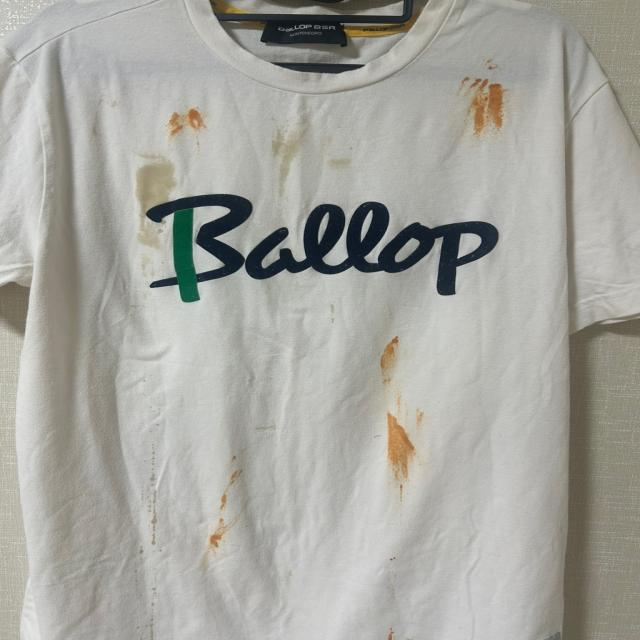stain: (442, 76, 514, 140), (254, 124, 316, 198), (135, 152, 171, 254), (381, 402, 419, 486), (138, 449, 168, 555), (209, 467, 246, 549), (161, 105, 215, 142), (324, 154, 374, 187), (140, 580, 168, 637), (374, 331, 404, 384), (485, 54, 509, 79), (324, 306, 350, 327), (385, 544, 405, 567), (381, 628, 415, 640), (225, 445, 245, 460)
